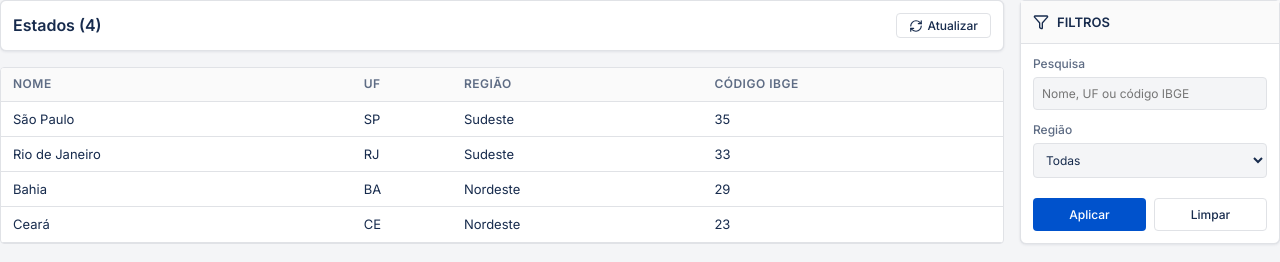
it: States › filtra por região com serviço mockado
Expected: the text "São Paulo" is shown, [1,101,352,136]
Select "Nordeste" in the dropdown at (1150, 160), box [1033,143,1267,178]
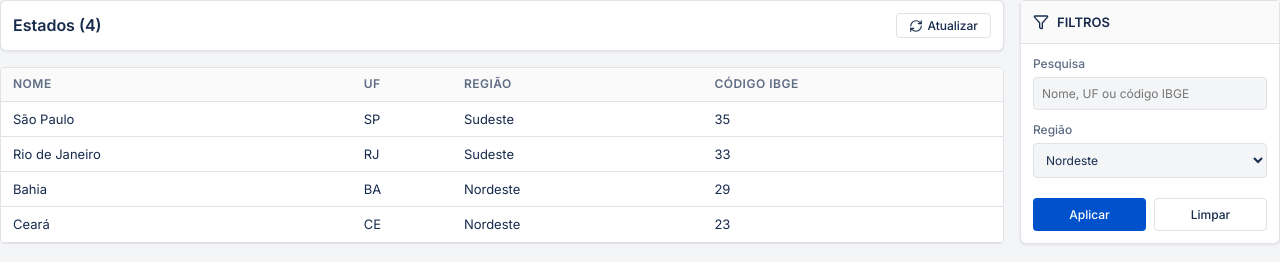
Click the button "Aplicar" at (1090, 214), box [1033,198,1146,231]
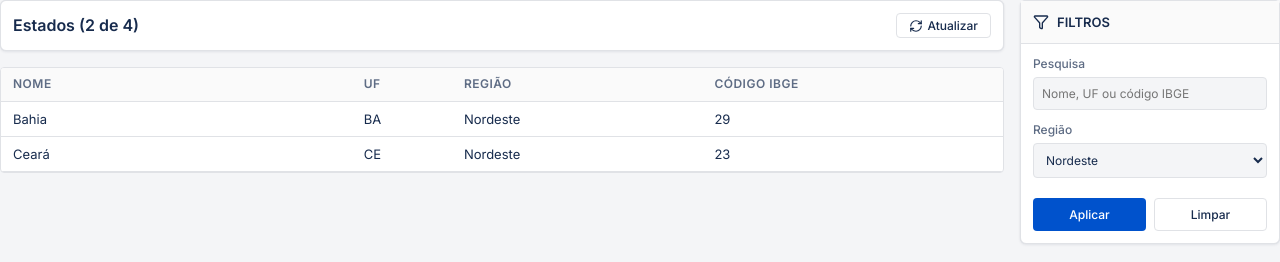
Expected: the text "São Paulo" is gone
Expected: the text "Bahia" is shown, [1,101,352,136]
Expected: the text "Ceará" is shown, [1,136,352,172]
